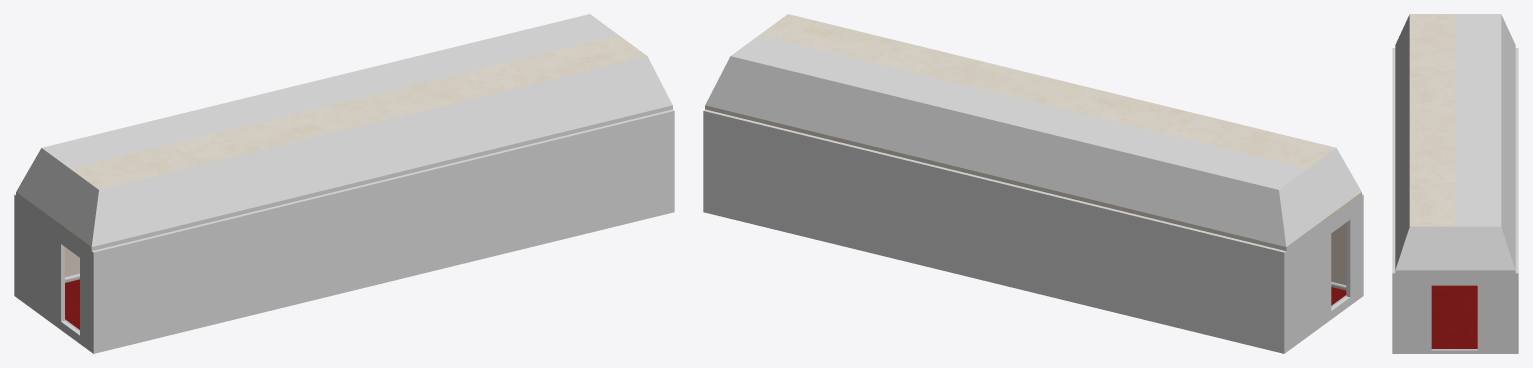
The model's file is Sala.fbx.
3 views of the same model, side by side, from view 1: azimuth 30°, elevation 25°; view 2: azimuth 150°, elevation 25°; view 3: azimuth 270°, elevation 25° (orthographic). The views are drawn at different scales.
Parts seen in each view (by area): view 1: Techo, Paredes Sala; view 2: Techo, Paredes Sala; view 3: Techo, Paredes Sala.
Boxes of the visible parts, x1=… form: Techo: x1=16, y1=14, x2=672, y2=250; Paredes Sala: x1=14, y1=109, x2=674, y2=353; Techo: x1=705, y1=14, x2=1361, y2=250; Paredes Sala: x1=703, y1=109, x2=1363, y2=353; Techo: x1=1395, y1=14, x2=1515, y2=273; Paredes Sala: x1=1392, y1=48, x2=1518, y2=353.
Size of the model in its own units: 3000 by 750 by 710.
